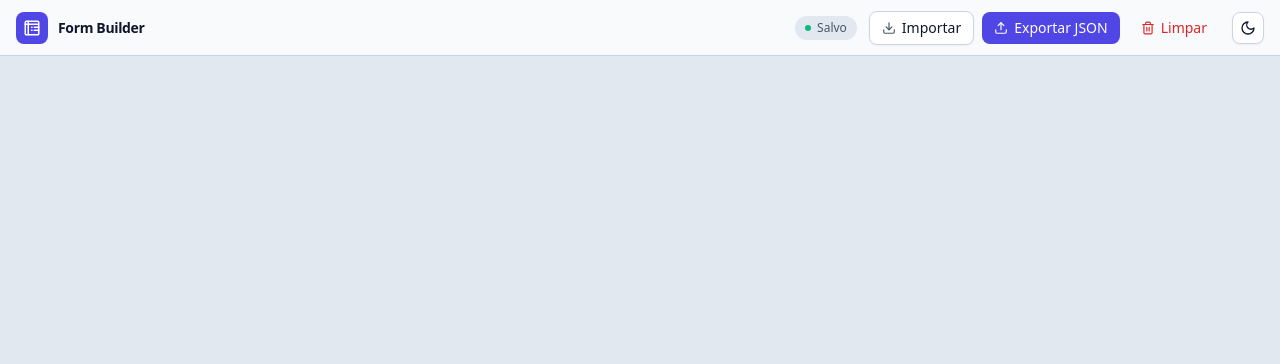
it: Toolbar › abre painel de import
The width and height of the screenshot is (1280, 364).
Click the button "Importar": x=922, y=28 [869, 10, 974, 44]
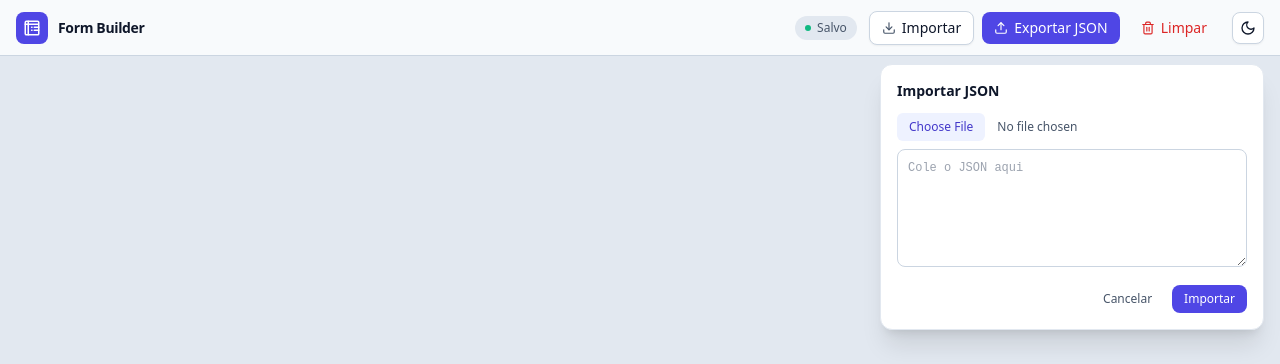
Expected: the text box with placeholder "Cole o JSON aqui" is shown, [897, 149, 1247, 267]
